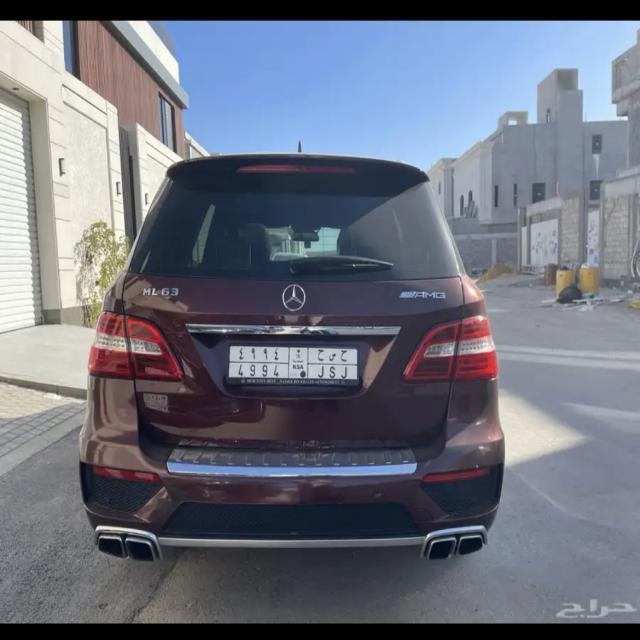license_plate: (226, 341, 362, 386)
